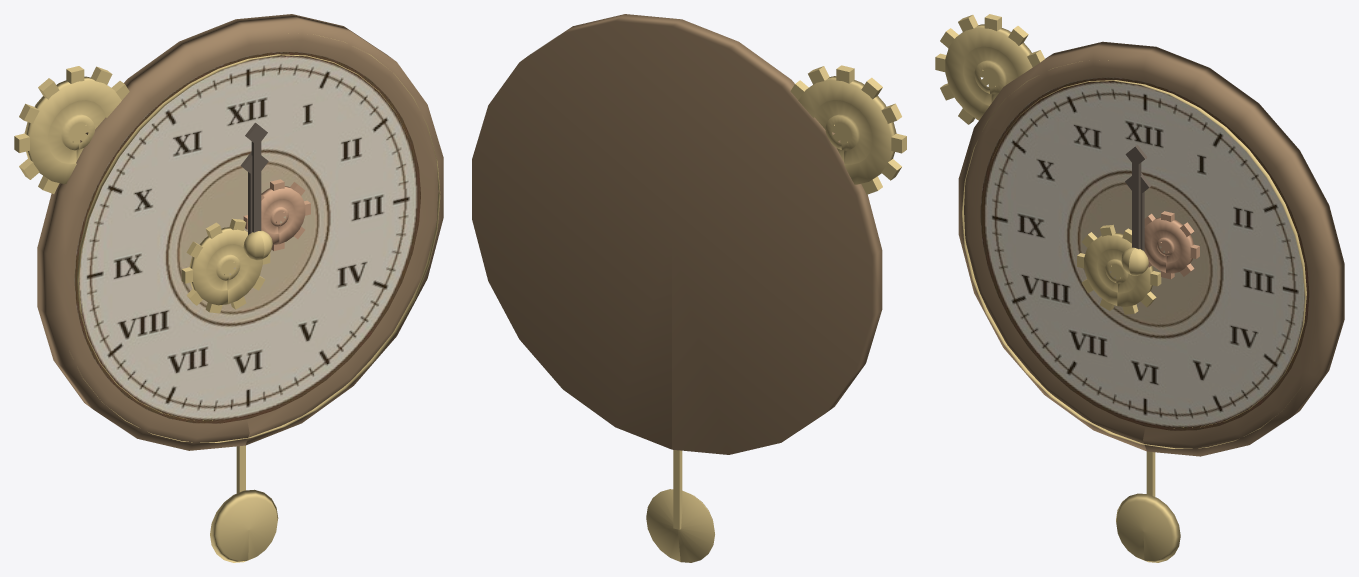
The model's file is clockwork_wall_clock.glb.
3 views of the same model, side by side, from view 1: azimuth 30°, elevation 25°; view 2: azimuth 150°, elevation 25°; view 3: azimuth 330°, elevation 25° (orthographic). The views are drawn at different scales.
Parts seen in each view (by area): view 1: Clock_Case_And_Dial, ClockGear_Wall, ClockGear_1, ClockGear_2, Clock_MinuteHand, Clock_HourHand; view 2: Clock_Case_And_Dial, ClockGear_Wall; view 3: Clock_Case_And_Dial, ClockGear_Wall, ClockGear_1, ClockGear_2, Clock_MinuteHand.
Part boxes in pixels (bbox=[...]): Clock_Case_And_Dial: bbox=[37, 14, 443, 562]; ClockGear_Wall: bbox=[14, 66, 129, 193]; ClockGear_1: bbox=[181, 218, 270, 313]; ClockGear_2: bbox=[243, 179, 310, 250]; Clock_MinuteHand: bbox=[245, 122, 267, 232]; Clock_HourHand: bbox=[240, 152, 268, 234]; Clock_Case_And_Dial: bbox=[472, 14, 882, 562]; ClockGear_Wall: bbox=[790, 65, 906, 194]; Clock_Case_And_Dial: bbox=[958, 41, 1344, 562]; ClockGear_Wall: bbox=[935, 14, 1044, 124]; ClockGear_1: bbox=[1077, 224, 1161, 314]; ClockGear_2: bbox=[1144, 211, 1199, 279]; Clock_MinuteHand: bbox=[1125, 145, 1147, 249].
Bounding box in the file's own units: 1.73 × 2.1 × 0.205.
5 materials, 1 textured.
